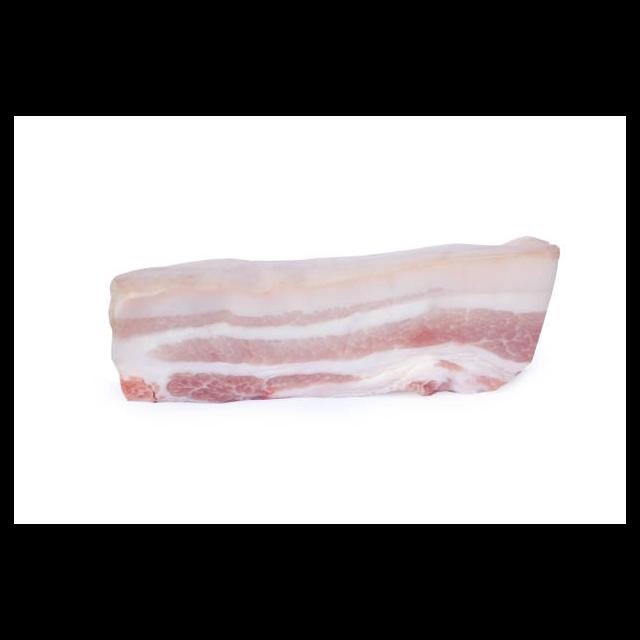pork: (101, 235, 563, 413)
